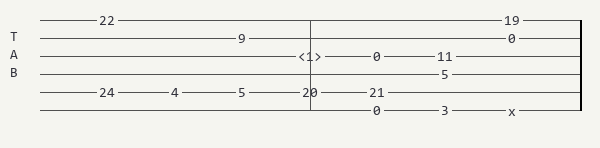0: (373, 104, 385, 117), (373, 50, 385, 63), (508, 32, 520, 45)
11: (437, 50, 457, 63)
19: (504, 14, 524, 27)
20: (302, 86, 322, 99)
21: (369, 86, 389, 99)
22: (99, 14, 119, 27)
24: (99, 86, 119, 99)
3: (441, 104, 453, 117)
4: (171, 86, 183, 99)
5: (238, 86, 250, 99), (441, 68, 453, 81)
9: (238, 32, 250, 45)
harmonic: (298, 50, 326, 63)
x: (508, 105, 520, 116)
